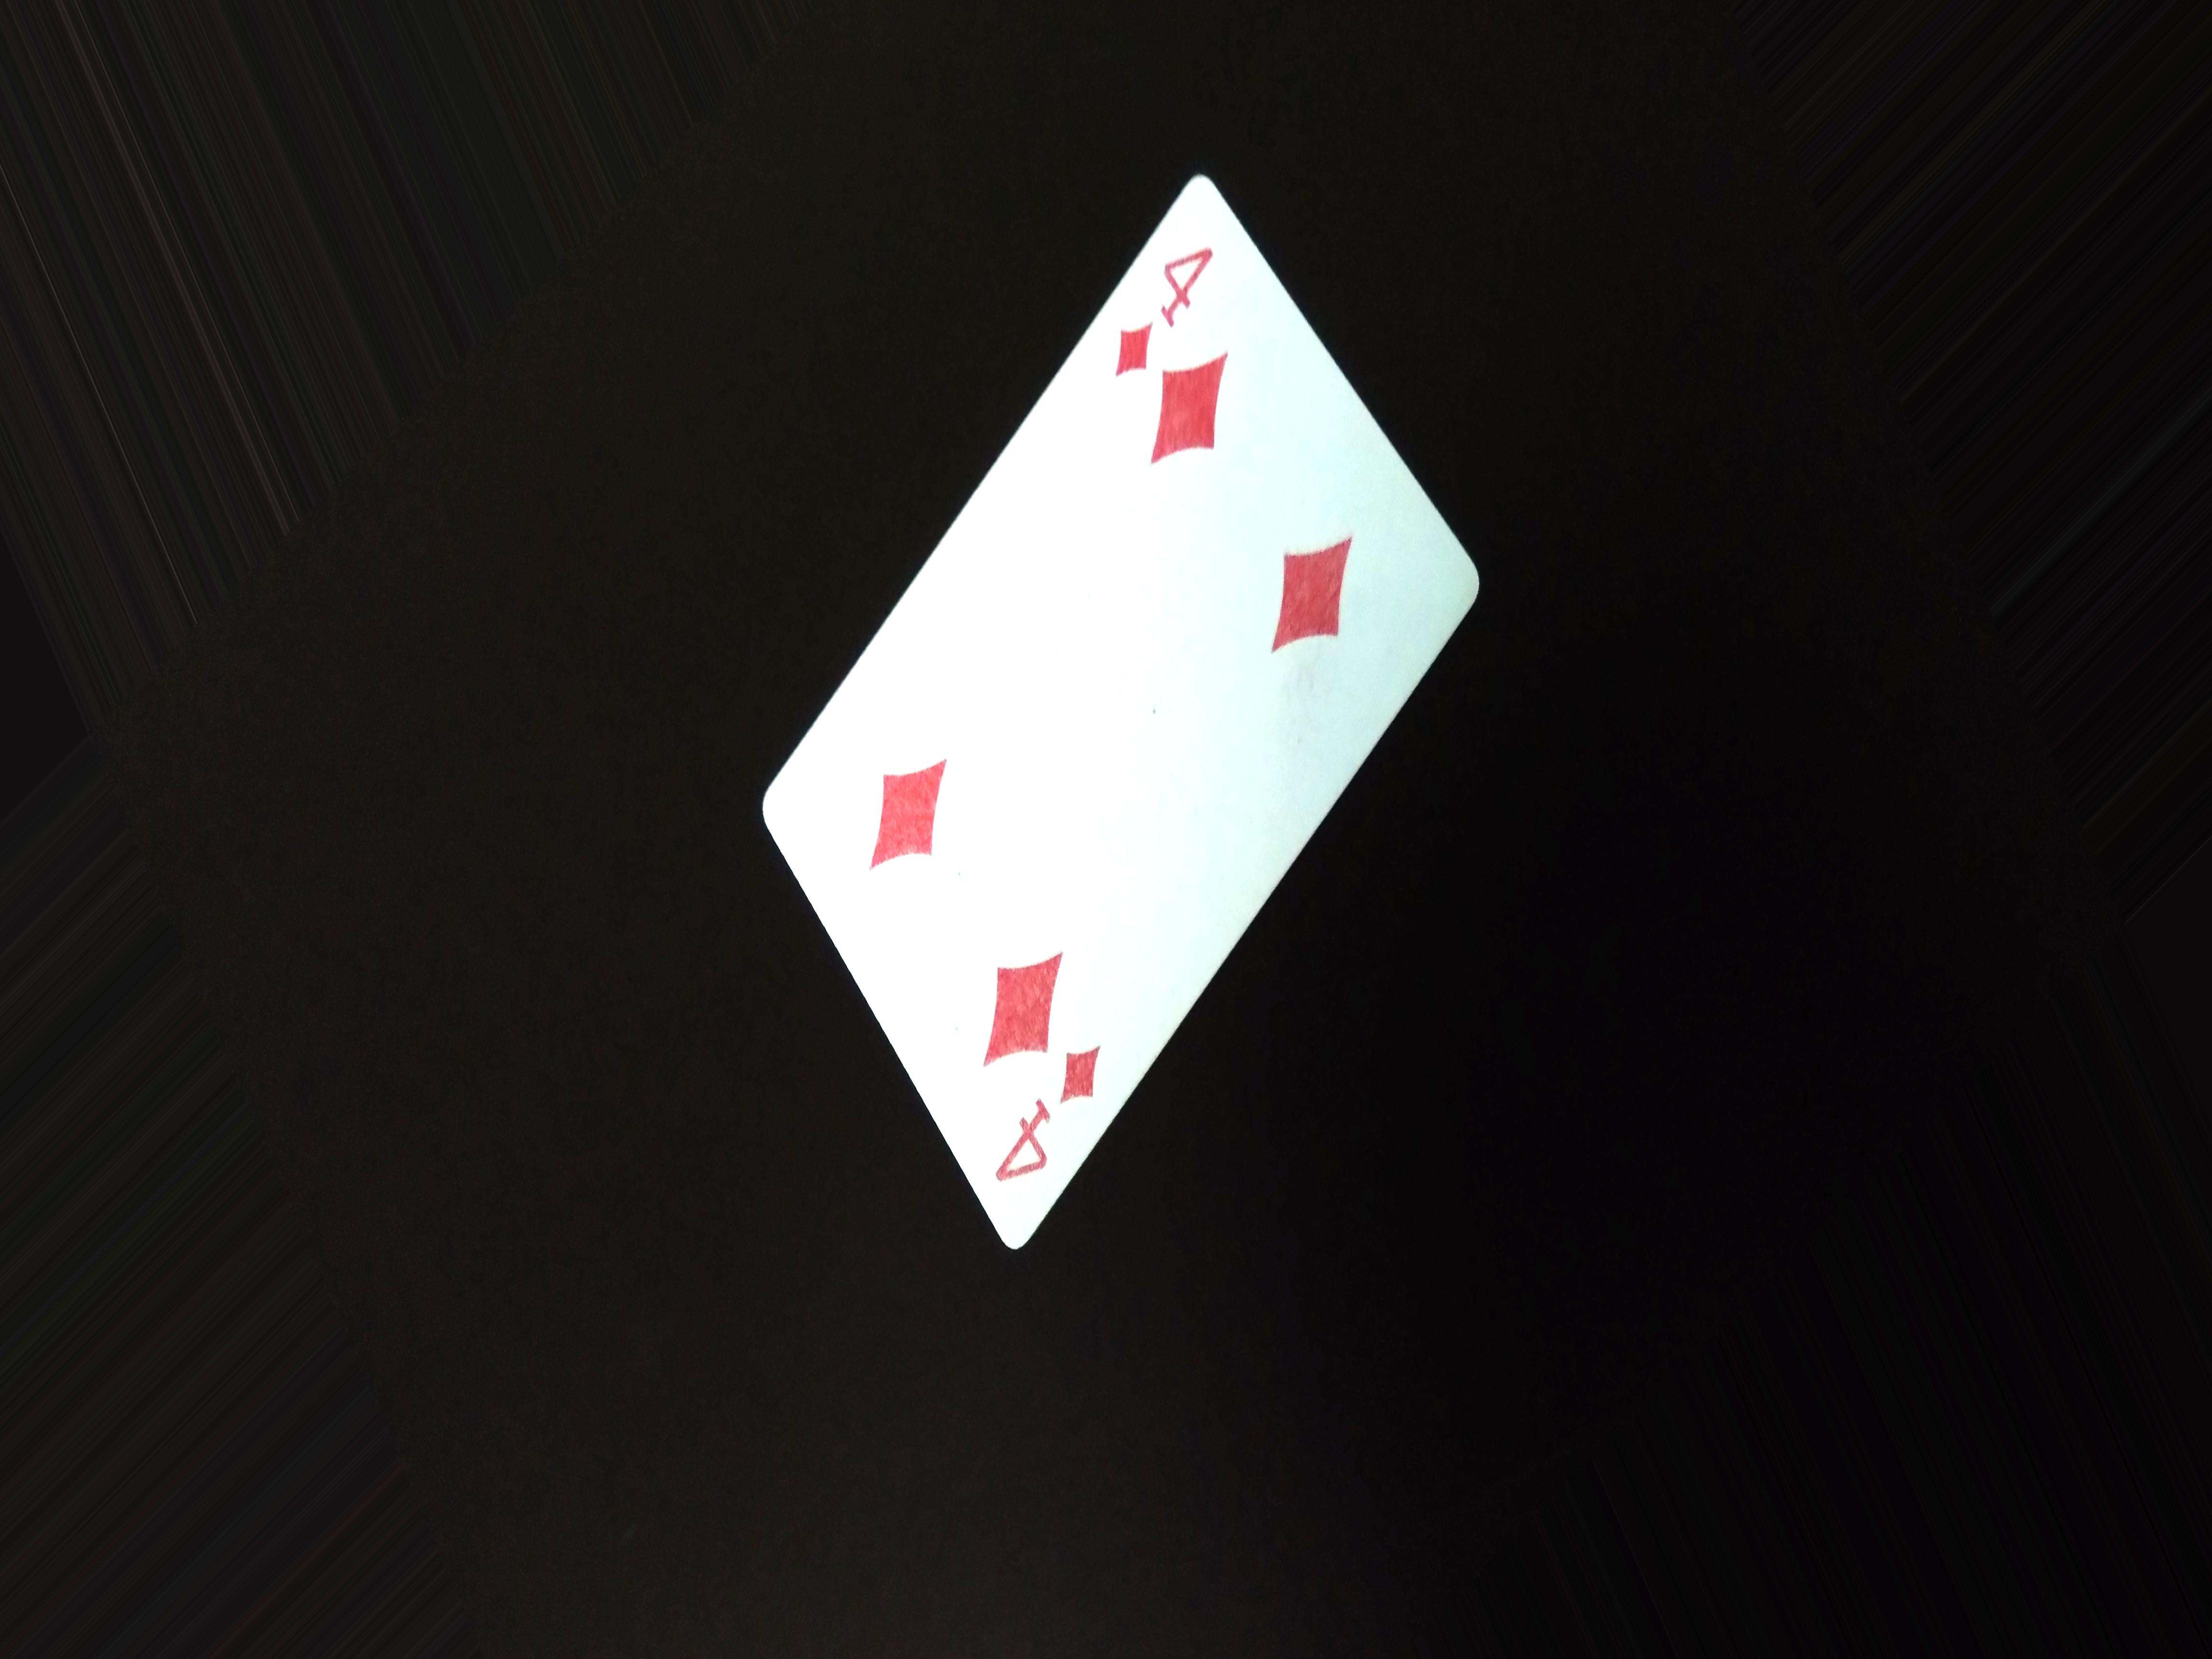4D: (1092, 220, 1231, 389)
